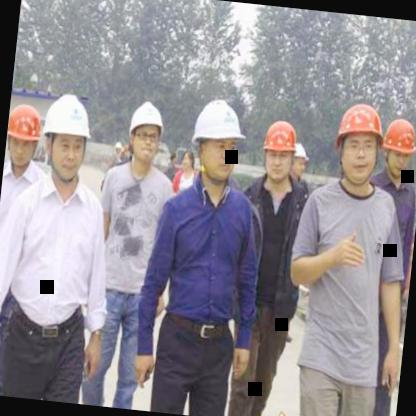helmet: (32, 82, 100, 192), (185, 89, 255, 190), (326, 90, 394, 192), (253, 110, 308, 192), (121, 94, 170, 172), (4, 92, 51, 172), (375, 108, 416, 186)
